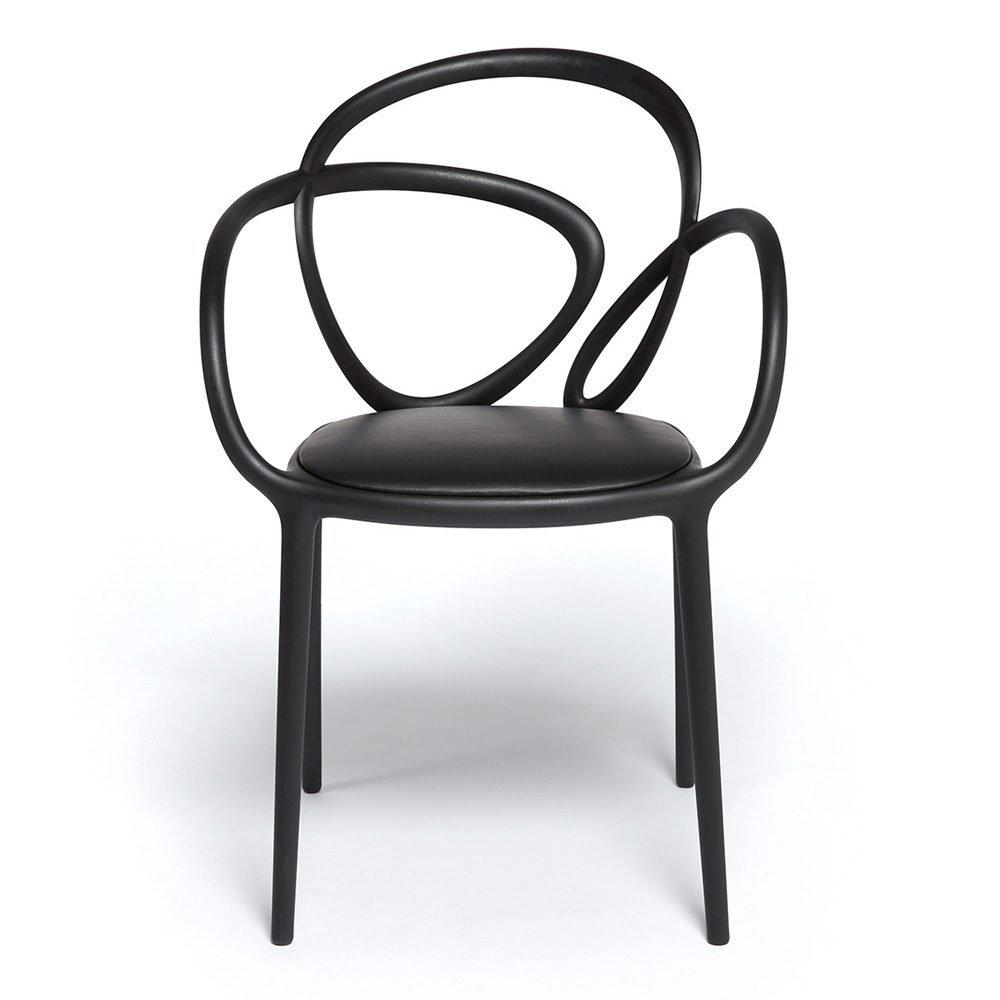chair: (129, 30, 852, 982)
